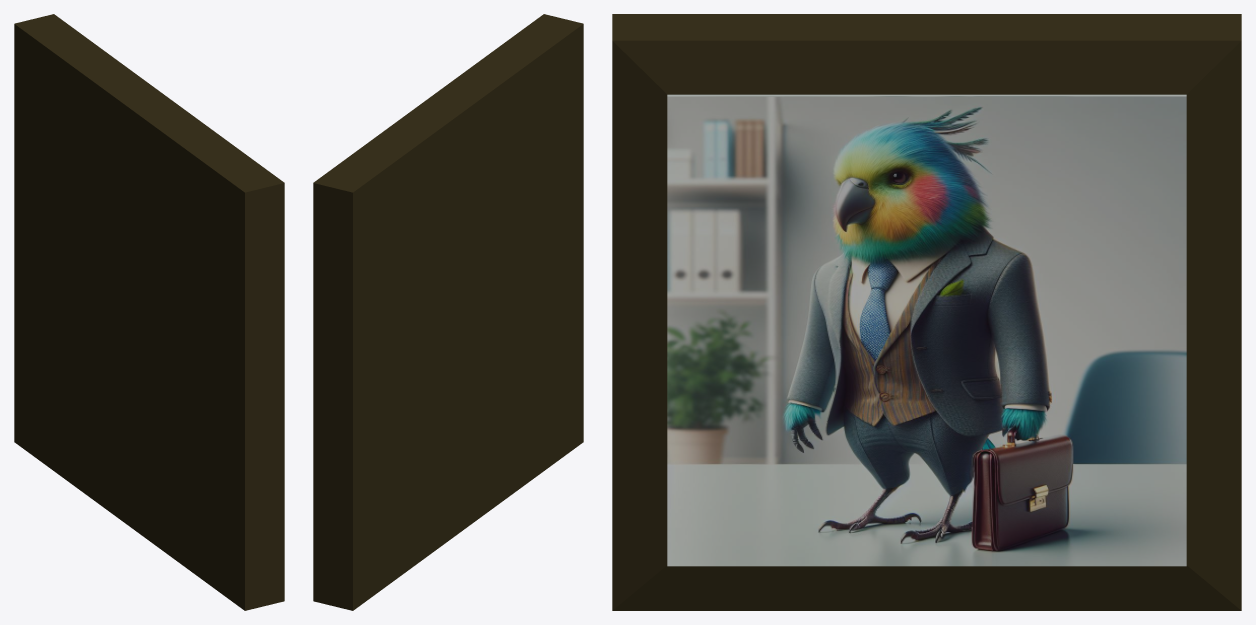
Rendered from Picture1.fbx.
3 renders of one model, left to right at view 1: azimuth 30°, elevation 25°; view 2: azimuth 150°, elevation 25°; view 3: azimuth 270°, elevation 25°, orthographic. The views are drawn at different scales.
Visible parts, largest first — view 1: Frame; view 2: Frame; view 3: Photo, Frame.
Boxes of the visible parts, x1,y1,x2,y2 form: Frame: [14, 14, 284, 610]; Frame: [313, 14, 583, 610]; Photo: [667, 94, 1186, 566]; Frame: [612, 14, 1241, 610].
Bounding box in the file's own units: 57.34 × 6.88 × 57.34.
